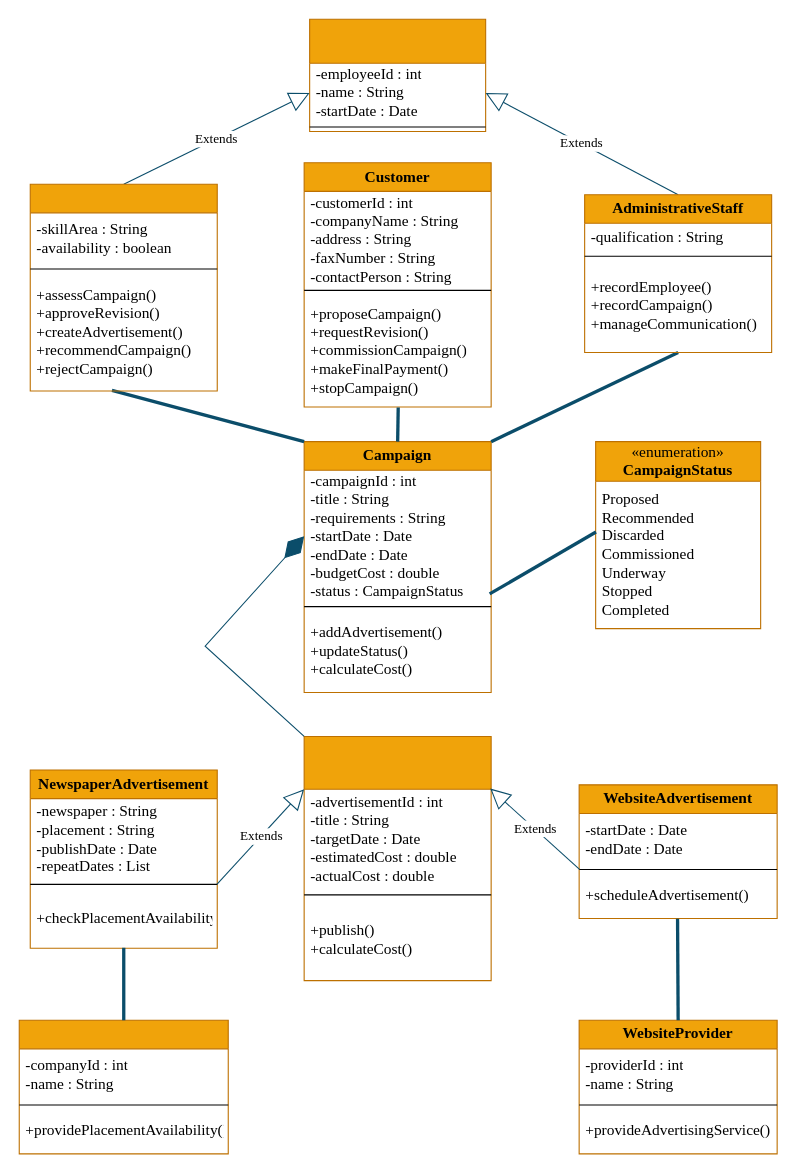
This 796x1174 diagram has some shape labels left out. The shapes that lost their labels are listed below. From the top down, each one's box as (x1, y1, x2, y2) in pixels, then its label:
(309, 18, 486, 131): «abstract» Employee
(29, 183, 217, 391): TechnicalStaff
(303, 735, 491, 981): «abstract» Advertisement
(18, 1019, 228, 1154): NewspaperCompany
